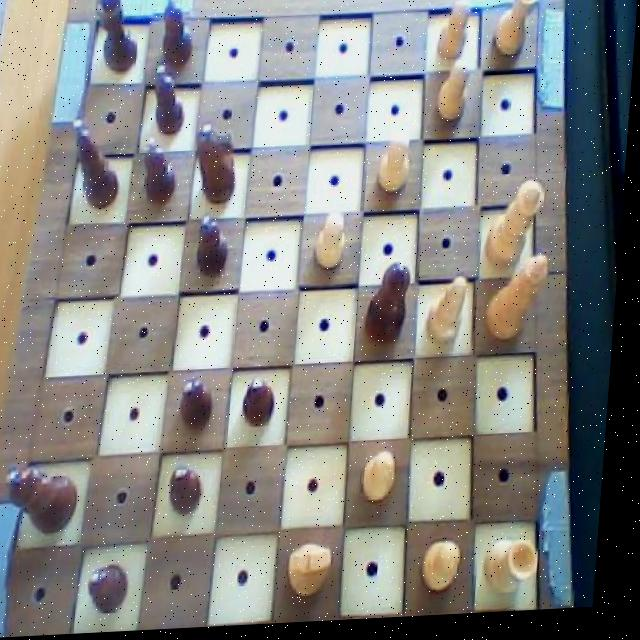bishop: (67, 113, 128, 215)
black-bishop: (7, 460, 90, 539)
black-king: (192, 119, 250, 214)
black-knight: (147, 59, 193, 142), (140, 134, 183, 210), (90, 560, 144, 619), (157, 0, 200, 74), (240, 369, 287, 435), (197, 213, 238, 283), (180, 376, 225, 439), (171, 462, 218, 521)
black-pawn: (364, 257, 420, 354)
black-queen: (89, 0, 146, 79)
black-rook: (429, 275, 478, 355)
white-bishop: (486, 258, 556, 353)
white-king: (288, 537, 348, 611)
white-knight: (376, 129, 419, 203), (312, 210, 357, 280), (363, 447, 410, 512), (425, 538, 473, 601), (435, 59, 477, 129), (434, 0, 474, 68)
white-pawn: (487, 182, 553, 280)
white-queen: (488, 536, 551, 606), (492, 0, 546, 66)
